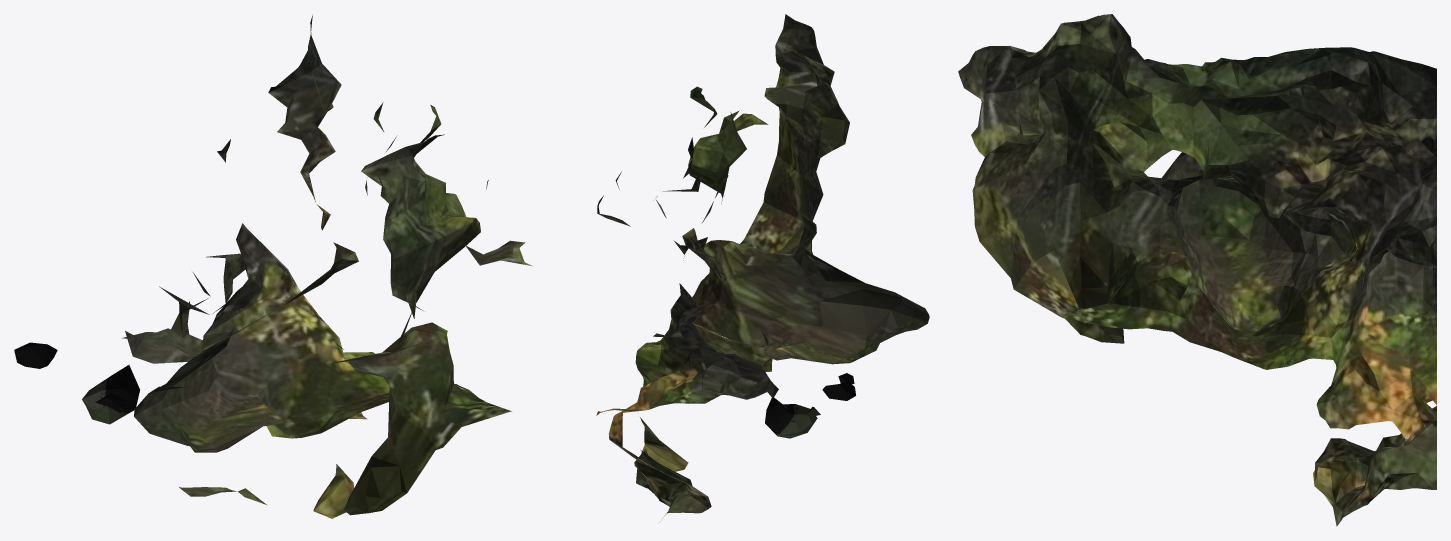
3 views of the same model, side by side, from view 1: azimuth 30°, elevation 25°; view 2: azimuth 150°, elevation 25°; view 3: azimuth 270°, elevation 25° (orthographic). The views are drawn at different scales.
Bounding box in the file's own units: 4.19 × 5.9 × 5.62.
4 materials, 4 textured.
